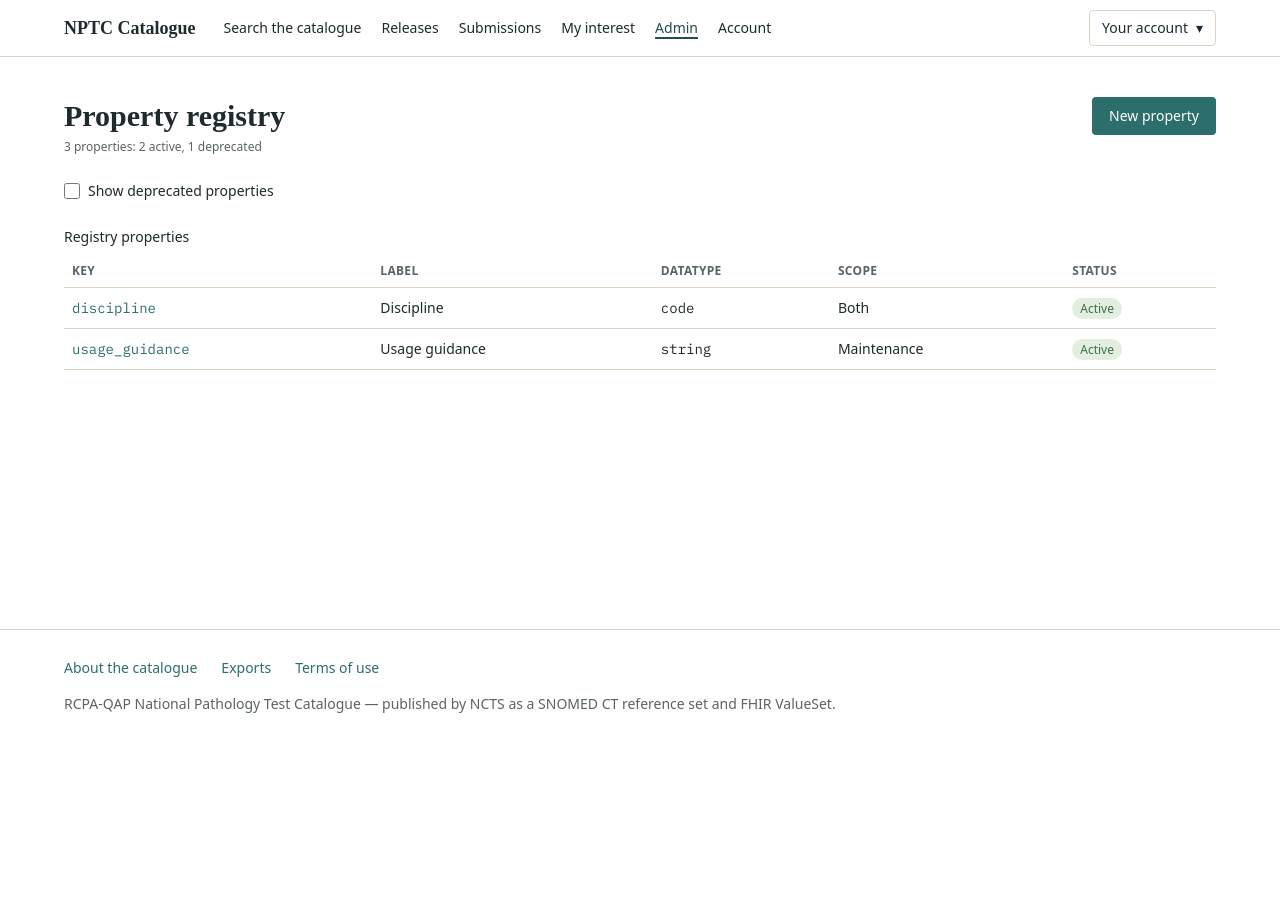
Test: AdminPropertyListPage › shows a deprecated row with the word Deprecated, not colour alone, once toggled on
Expected: the link "discipline" is shown, [72,296,156,320]
What coordinates should you click on to do the following:
click the checkbox labelled "Show deprecated properties"
I would click on:
 (72, 190)
Its box is [64,182,80,198].
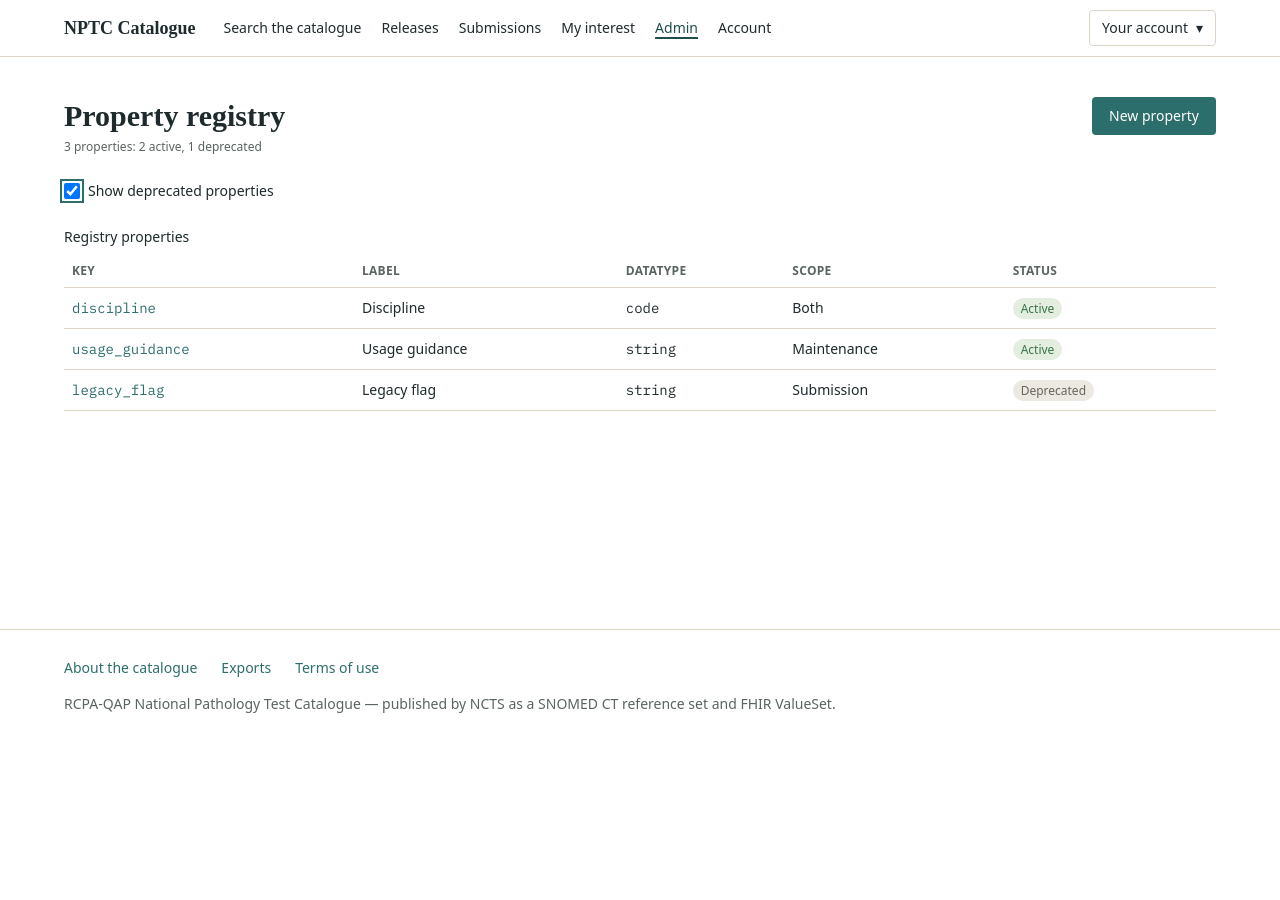
Now the text "Deprecated" is shown, box [1013,380,1094,400]
